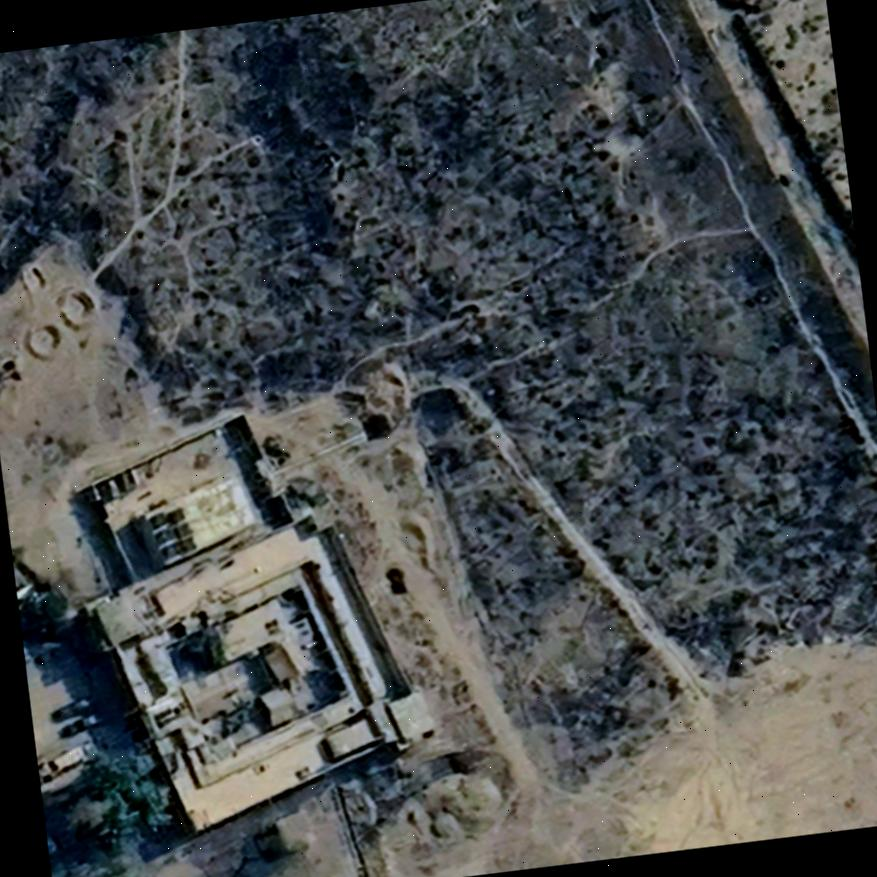Solarpanel: (143, 500, 201, 566), (87, 464, 141, 509)
